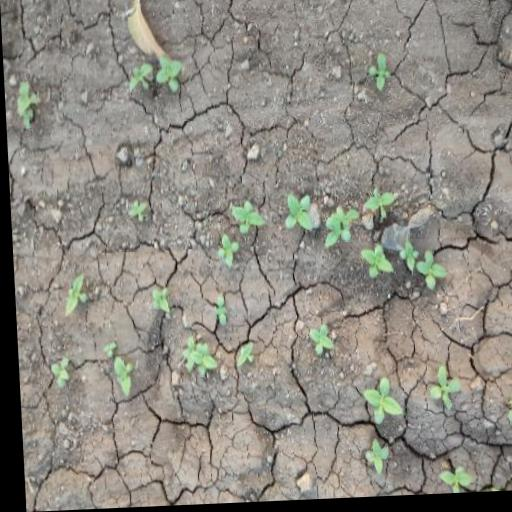crop: (273, 191, 354, 246), (175, 337, 255, 381), (211, 203, 259, 270), (123, 57, 189, 96), (495, 335, 512, 484), (396, 248, 444, 294), (353, 381, 399, 428), (423, 365, 461, 415), (12, 78, 45, 133), (55, 273, 90, 319), (354, 441, 389, 481), (361, 55, 394, 97), (299, 325, 335, 361), (357, 250, 389, 281)
